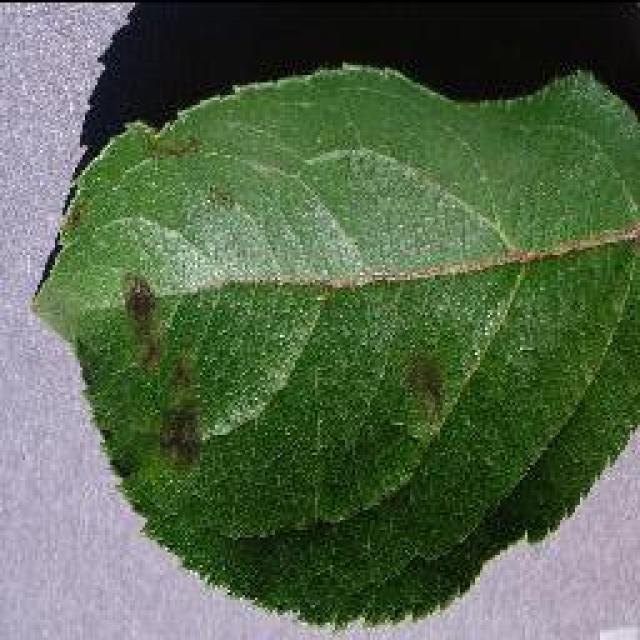apple scab disease: (28, 55, 638, 630)
